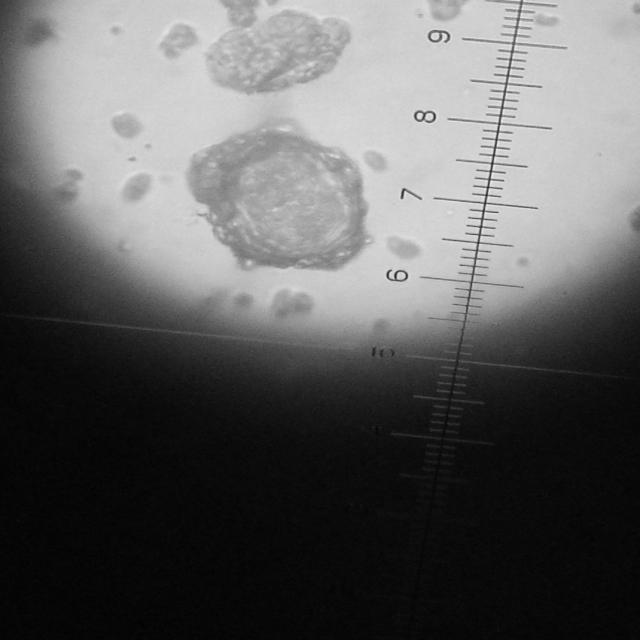Ascaris Lumbricoides: (180, 115, 372, 283)
